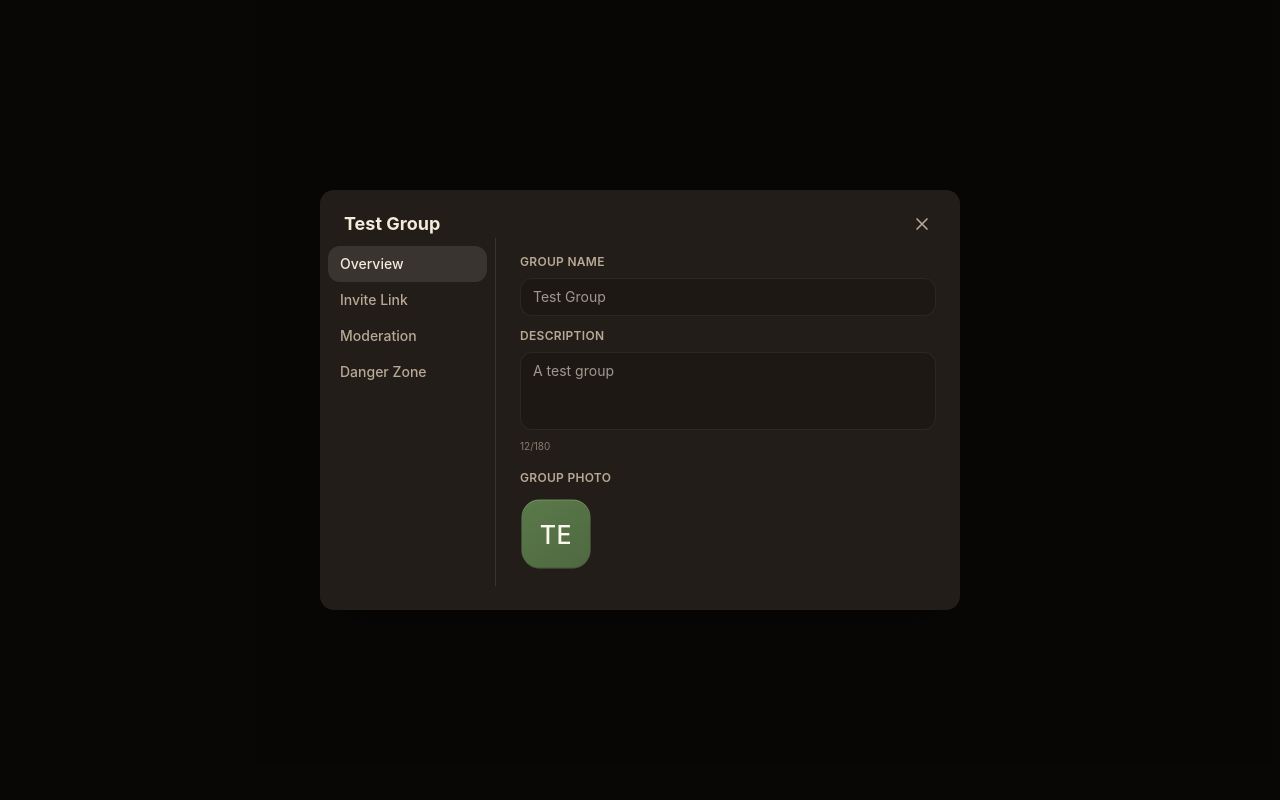
GroupSettingsModal › shows Leave Group option for non-owners
The image size is (1280, 800).
Click the button with test id "nav-danger" at (408, 372), box [328,354,487,390]
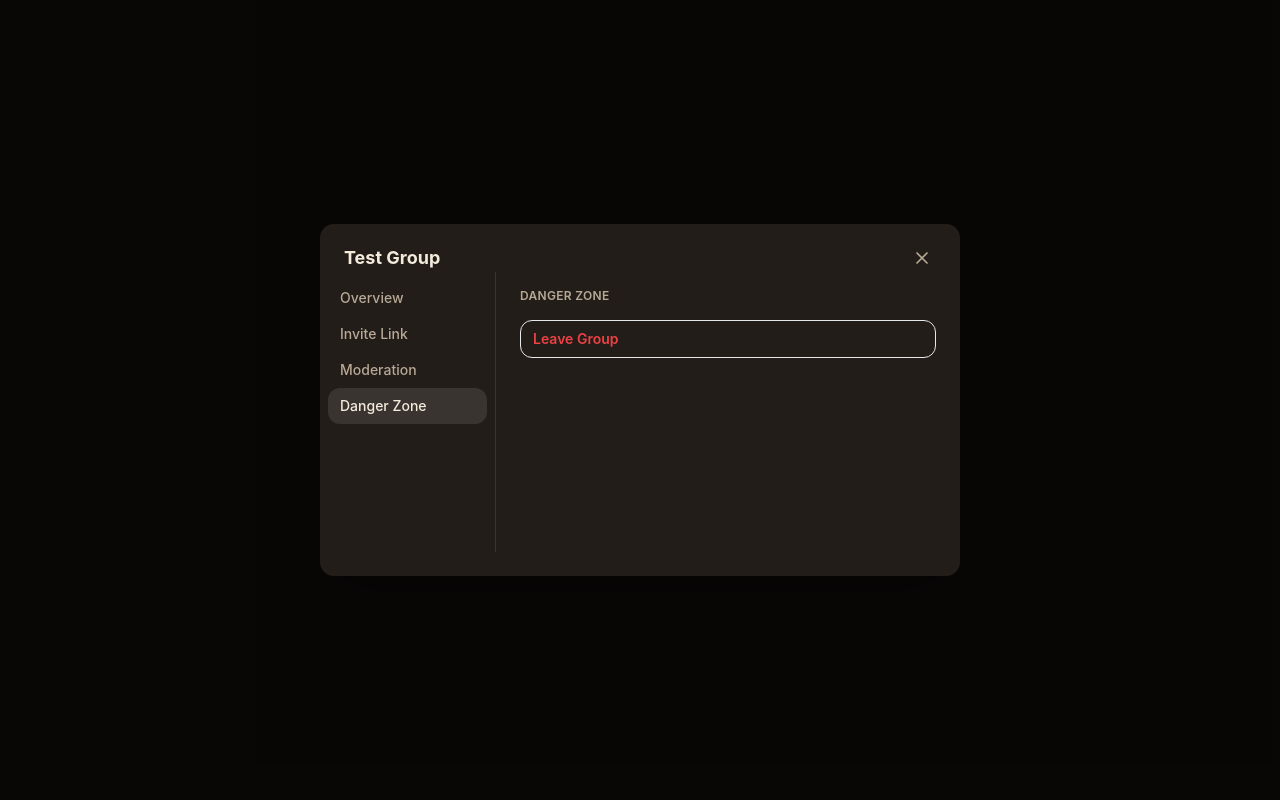
Check: the button "Leave Group" is shown, box [520,320,936,358]
